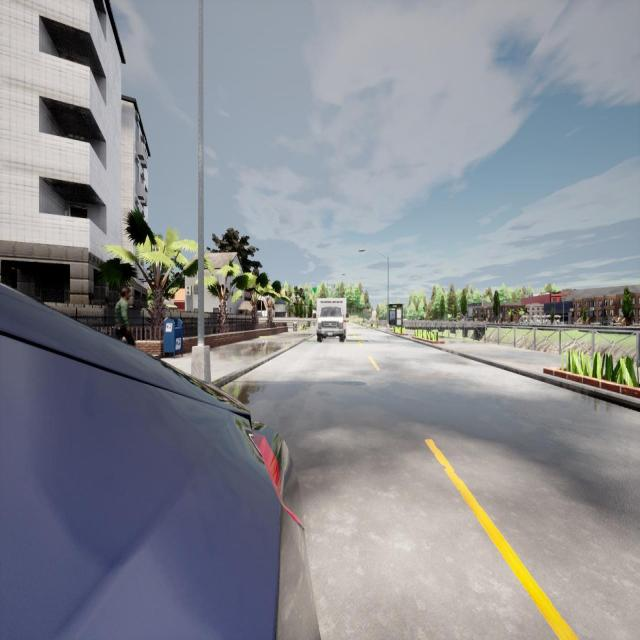Pedestrian: (115, 287, 135, 346)
Vehicle: (0, 285, 319, 638), (314, 298, 348, 343)
